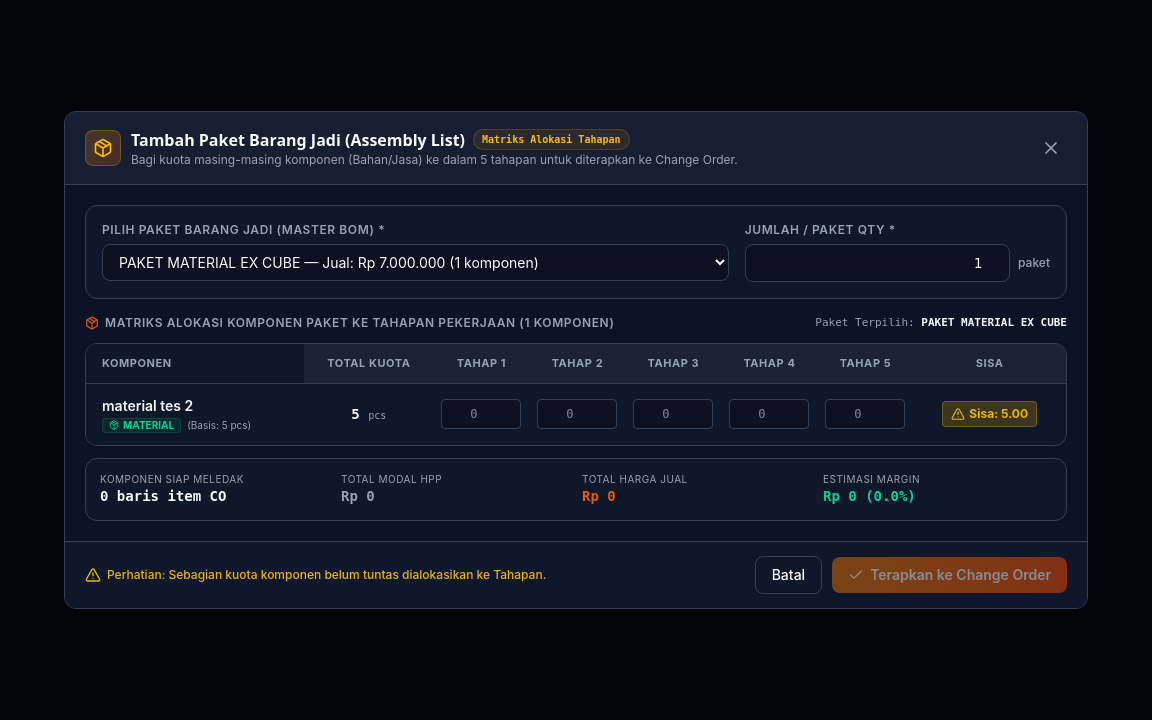
Test: Component: ChangeOrderPackageModal (Per-Component WBS Allocation Matrix) › prevents applying when any component is over-allocated
Type "6" into the number field named "material tes 2 Tahap 1" at (481, 414), box [441,399,521,429]
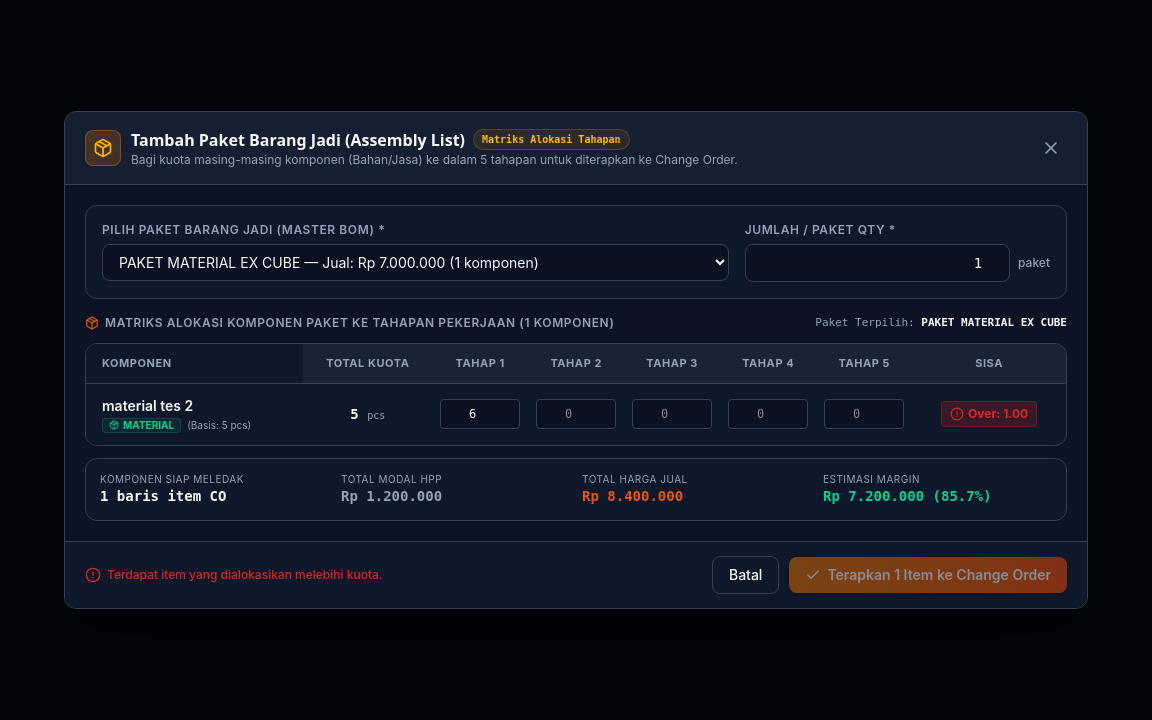
Expected: the button "Terapkan 1 Item ke Change Order" is disabled, [789,557,1067,593]
Now the text "Over: 1.00" is shown, box [968,406,1028,422]
Now the text "Terdapat item yang dialokasikan melebihi kuota." is shown, box [85,567,382,583]
